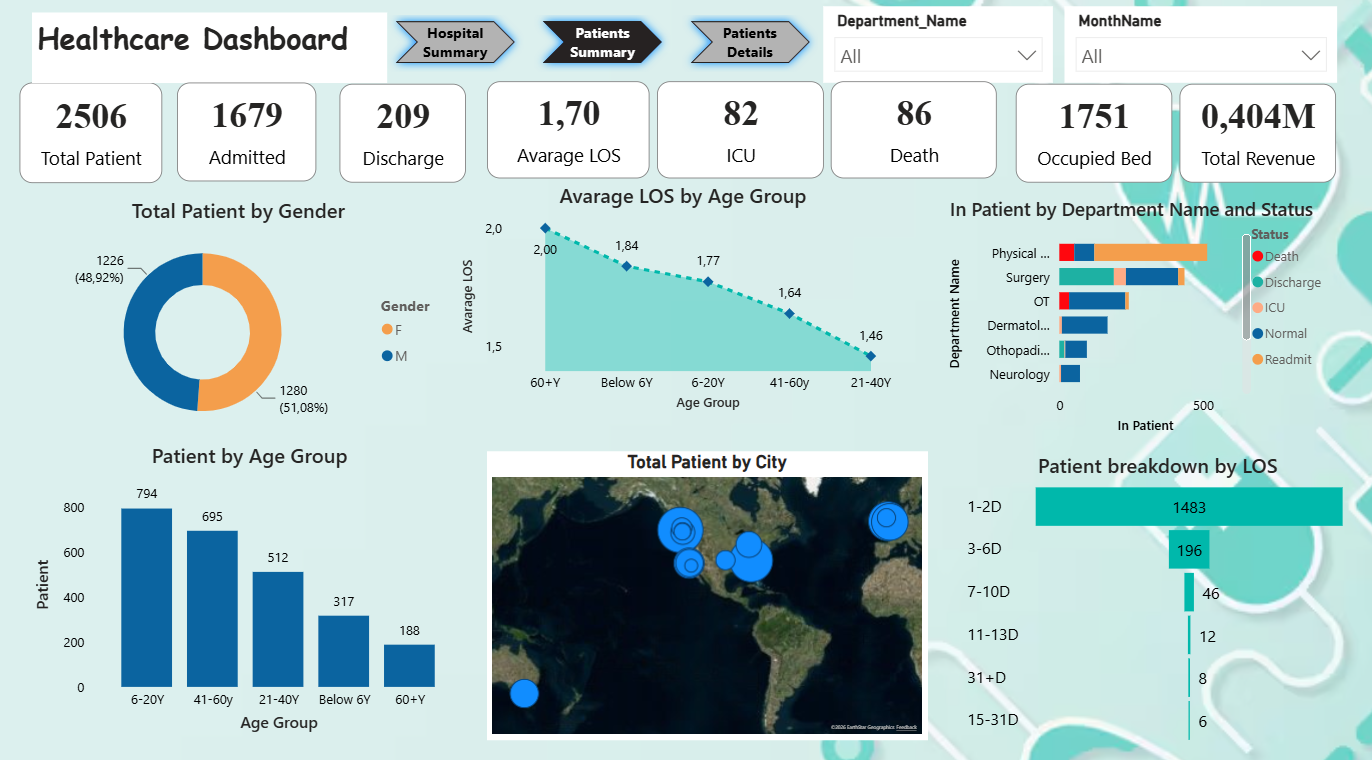

The page's visual inventory and layout, read from the dashboard file:
{"tool":"powerbi","page":{"name":"Patients Summary ","canvas":[1280,720],"ordinal":1},"visuals":[{"type":"cardVisual","fields":{"Data":["Measure.Total Patient"]},"box":[21.2,86.2,132.5,93.8],"z":0},{"type":"textbox","box":[32.9,20.6,330.4,65.8],"z":1000},{"type":"slicer","fields":{"Values":["Department.Department_Name"]},"box":[769.2,15.1,213.9,71.3],"z":2000},{"type":"slicer","fields":{"Values":["Calendar_date.MonthName"]},"box":[992.6,15.1,253.6,71.3],"z":3000},{"type":"cardVisual","fields":{"Data":["Measure.In Patient"]},"box":[167.5,85.6,129.6,91.7],"z":4000},{"type":"cardVisual","fields":{"Data":["Measure.Total Discharge"]},"box":[319,86.8,117.4,91.7],"z":5000},{"type":"cardVisual","fields":{"Data":["Measure.Avarage LOS"]},"box":[456,84.3,151.6,90.5],"z":6000},{"type":"cardVisual","fields":{"Data":["Measure.ICU"]},"box":[613.7,84.3,155.2,90.5],"z":7000},{"type":"cardVisual","fields":{"Data":["Measure.Death"]},"box":[775,84.3,154,90.5],"z":8000},{"type":"cardVisual","fields":{"Data":["Measure.Occupied Bed"]},"box":[947.4,86.8,145.5,91.7],"z":9000},{"type":"cardVisual","fields":{"Data":["Measure.Total Revenue"]},"box":[1100.2,86.8,145.5,91.7],"z":10000},{"type":"donutChart","fields":{"Category":["Detail data dataset.Gender"],"Y":["Measure.Total Patient"]},"box":[20.8,191.9,407.1,228.6],"z":11000},{"type":"columnChart","fields":{"Y":["Measure.Total Patient"],"Category":["Detail data dataset.Age Bucket"]},"box":[31.4,420,407.1,275.7],"z":12000},{"type":"areaChart","fields":{"Y":["Measure.Avarage LOS"],"Category":["Detail data dataset.Age Bucket"]},"box":[427.8,178.5,420.5,218.8],"z":13000},{"type":"barChart","fields":{"Category":["Department.Department_Name"],"Y":["Measure.In Patient"],"Series":["Detail data dataset.Status"]},"box":[881.4,191.9,364.3,226.1],"z":14000},{"type":"funnel","title":"Patient breakdown by LOS","fields":{"Y":["Measure.Total Patient"],"Category":["Detail data dataset.Custom"]},"box":[897.2,429.1,364.3,277.5],"z":15000},{"type":"azureMap","fields":{"Size":["Measure.Total Patient"],"Category":["Detail data dataset.City"]},"box":[456,429.1,409.5,267.7],"z":16000},{"type":"pageNavigator","box":[363.1,20.8,402.2,55],"z":17000}]}

Visuals, with their boxes in screenshot pixels (x1, y1, x2, y2), scaled from the page's 1280x720 canvas onto the 1372x760 screenshot:
cardVisual - Measure.Total Patient: [23,91,165,190]
textbox: [35,22,389,91]
slicer - Department.Department_Name: [824,16,1054,91]
slicer - Calendar_date.MonthName: [1064,16,1336,91]
cardVisual - Measure.In Patient: [180,90,318,187]
cardVisual - Measure.Total Discharge: [342,92,468,188]
cardVisual - Measure.Avarage LOS: [489,89,651,185]
cardVisual - Measure.ICU: [658,89,824,185]
cardVisual - Measure.Death: [831,89,996,185]
cardVisual - Measure.Occupied Bed: [1015,92,1171,188]
cardVisual - Measure.Total Revenue: [1179,92,1335,188]
donutChart - Detail data dataset.Gender x Measure.Total Patient: [22,203,459,444]
columnChart - Measure.Total Patient x Detail data dataset.Age Bucket: [34,443,470,734]
areaChart - Measure.Avarage LOS x Detail data dataset.Age Bucket: [459,188,909,419]
barChart - Department.Department_Name x Measure.In Patient: [945,203,1335,441]
"Patient breakdown by LOS" funnel: [962,453,1352,746]
azureMap - Measure.Total Patient x Detail data dataset.City: [489,453,928,736]
pageNavigator: [389,22,820,80]
